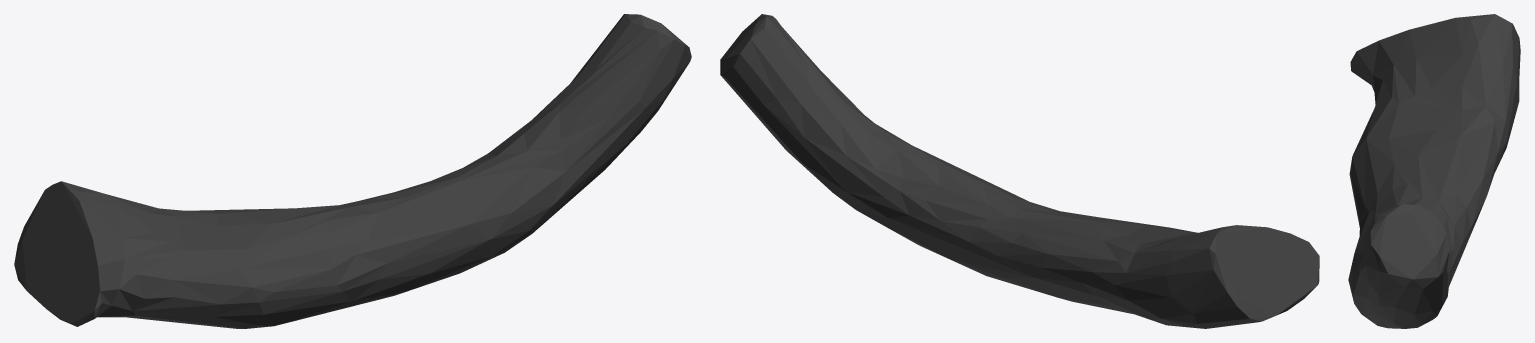
Rendered from Phrenicoabd_vv_L.glb.
3 views of the same model, side by side, from view 1: azimuth 30°, elevation 25°; view 2: azimuth 150°, elevation 25°; view 3: azimuth 270°, elevation 25° (orthographic). The views are drawn at different scales.
Parts seen in each view (by area): view 1: Phrenicoabd_vv_L; view 2: Phrenicoabd_vv_L; view 3: Phrenicoabd_vv_L.
Part boxes in pixels (bbox=[...]): Phrenicoabd_vv_L: bbox=[14, 14, 691, 328]; Phrenicoabd_vv_L: bbox=[720, 14, 1319, 328]; Phrenicoabd_vv_L: bbox=[1348, 14, 1520, 328].
Bounding box in the file's own units: 0.218 × 0.0722 × 0.0518.
1 material, 1 textured.
